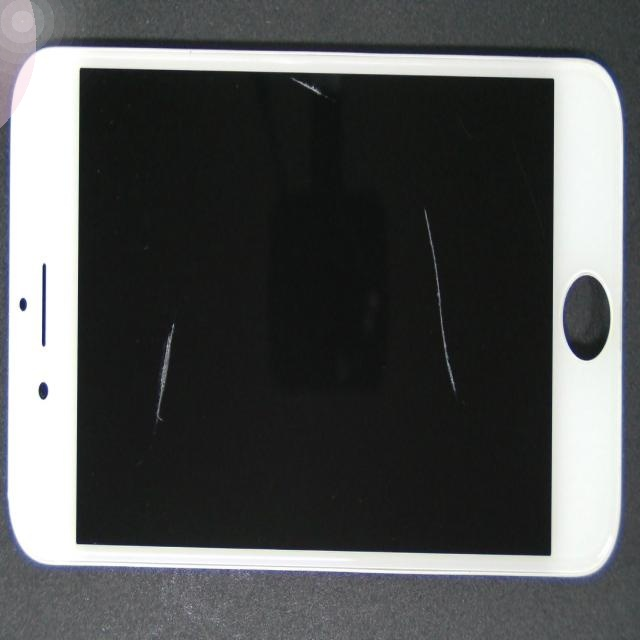scratch: (255, 293, 640, 493), (68, 282, 250, 591), (183, 51, 479, 119)
